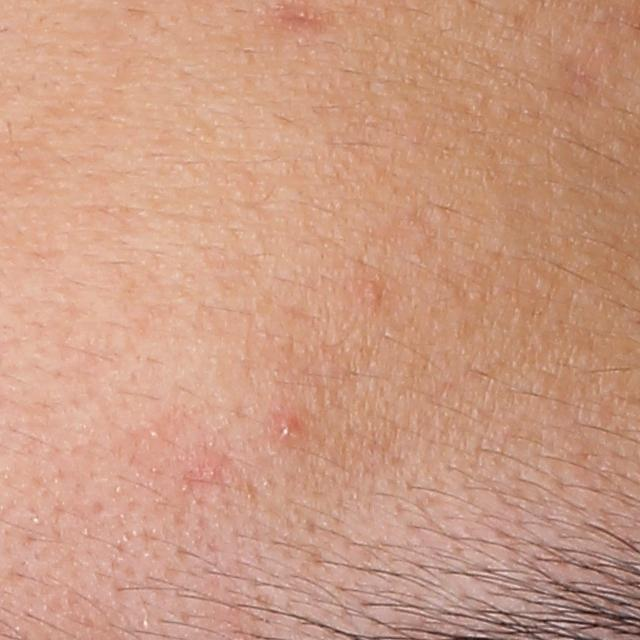comedo: (146, 427, 163, 441)
papule: (278, 417, 302, 443)
